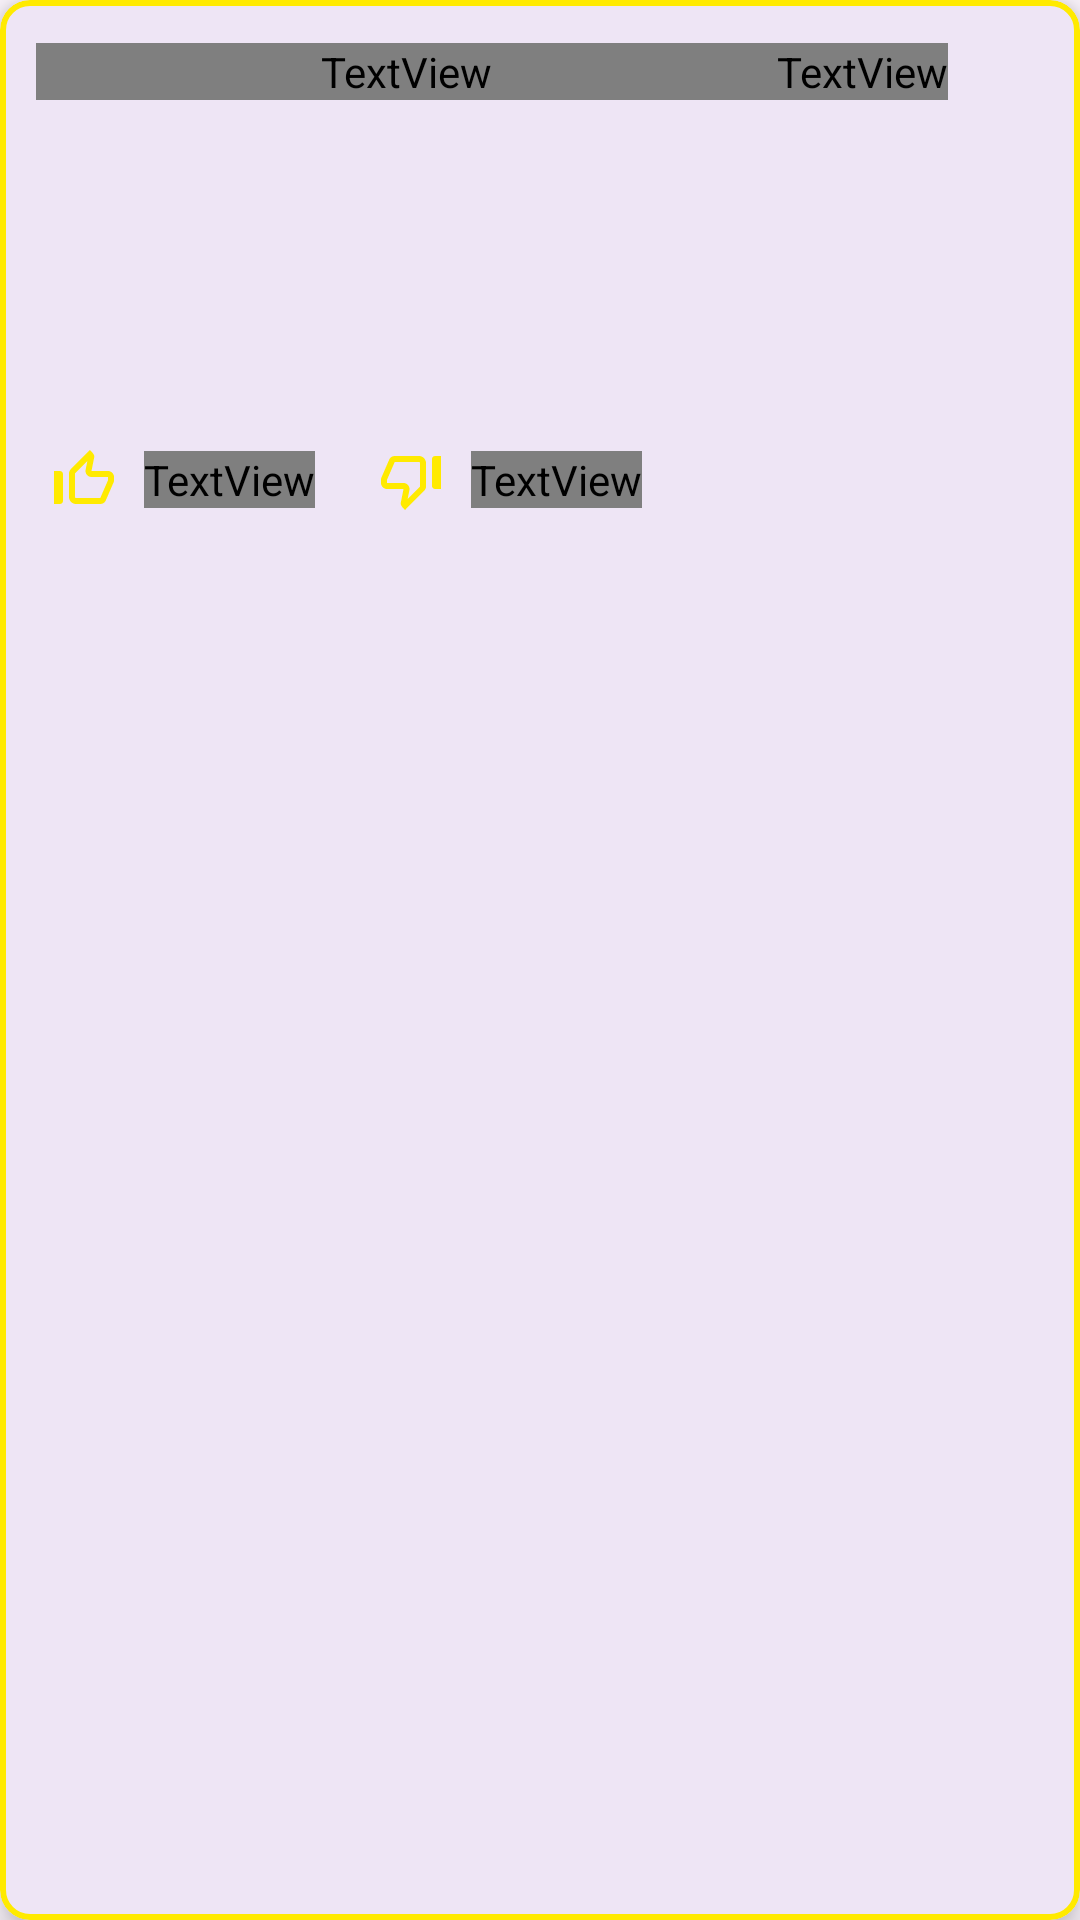

Locate icon controls on the screen. Image size 1080×1920, boxes as (x1, y1, x2, y2).
dislike off: (381, 456, 441, 510)
like off: (54, 450, 114, 504)
